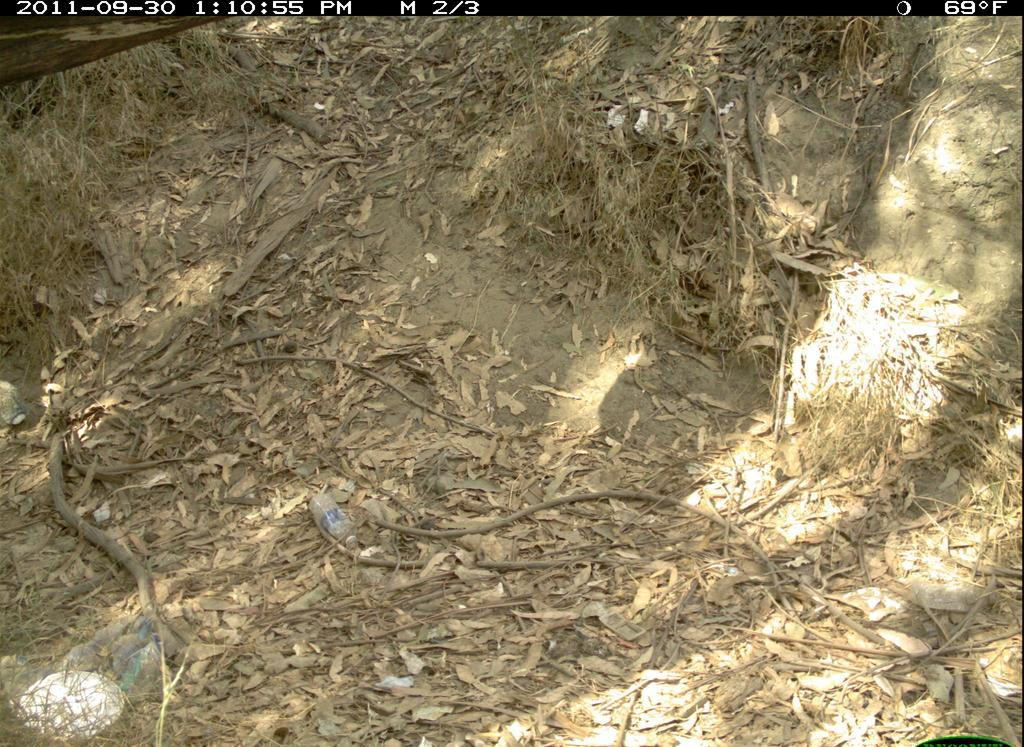rabbit: (1, 372, 38, 434)
